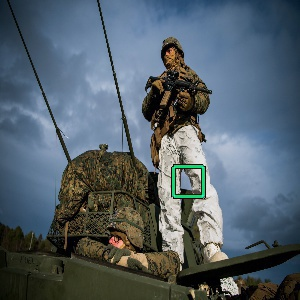square: (169, 163, 207, 199)
